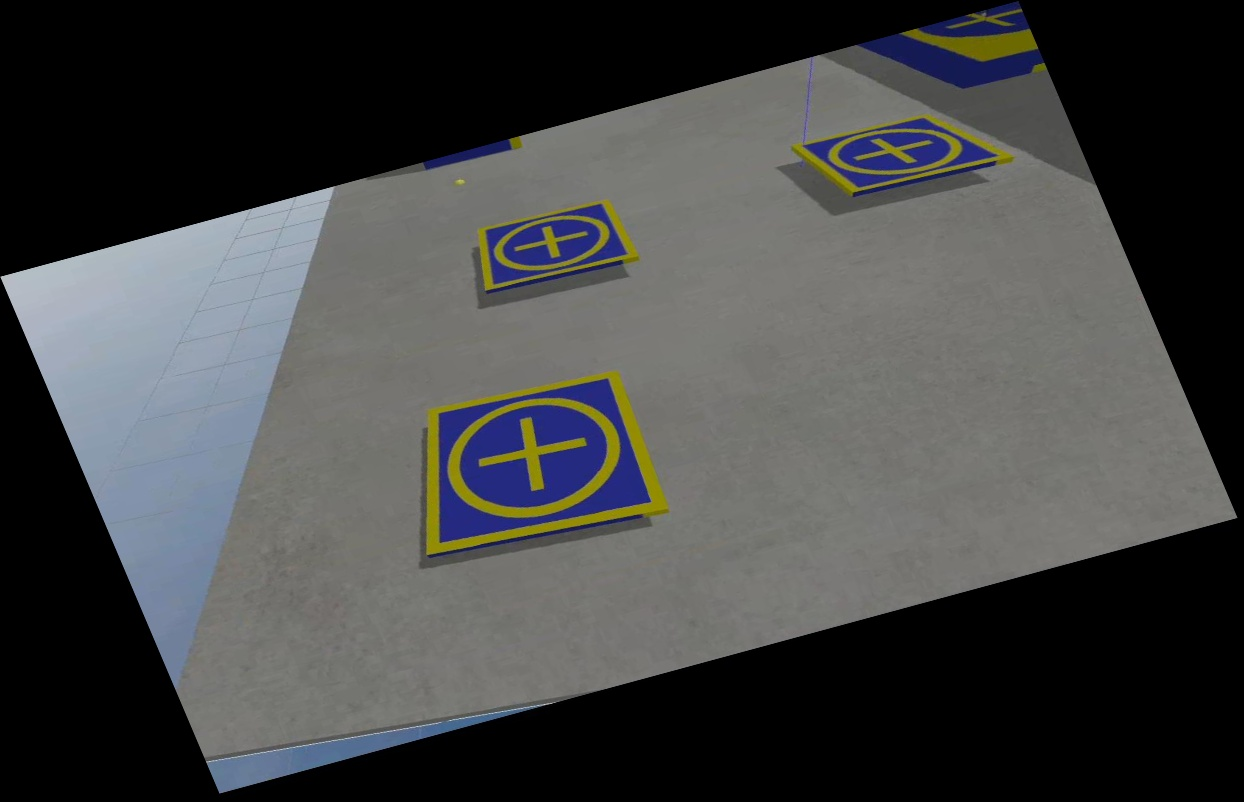large_base: (862, 0, 1050, 112)
small_base: (367, 353, 687, 584), (789, 90, 1018, 217), (463, 191, 646, 303)
